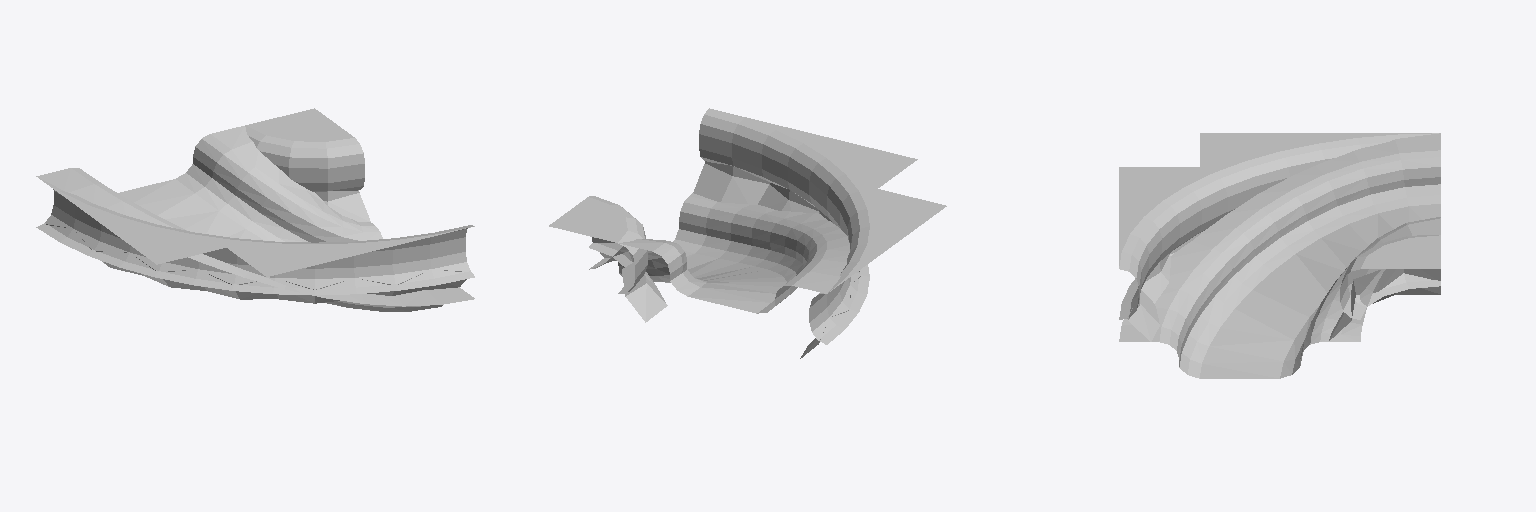
The model's file is Track_Cliff_Curve_Standard_Single_4x4.obj.
The picture shows the model from 3 angles: view 1: azimuth 30°, elevation 25°; view 2: azimuth 150°, elevation 25°; view 3: azimuth 270°, elevation 25°; orthographic projection.
Visible parts, largest first — view 1: Grass, Dirt, Rock; view 2: Grass, Dirt, Rock; view 3: Grass, Dirt, Rock.
Part boxes in pixels (x1,y1,x2,y2): Grass: (36, 108, 474, 307); Dirt: (118, 164, 442, 311); Rock: (46, 190, 466, 303); Grass: (549, 108, 946, 344); Dirt: (619, 229, 804, 313); Rock: (592, 161, 860, 358); Grass: (1119, 133, 1440, 366); Dirt: (1179, 184, 1440, 378); Rock: (1127, 233, 1440, 341).
Size of the model in its own units: 4 by 1.5 by 4.